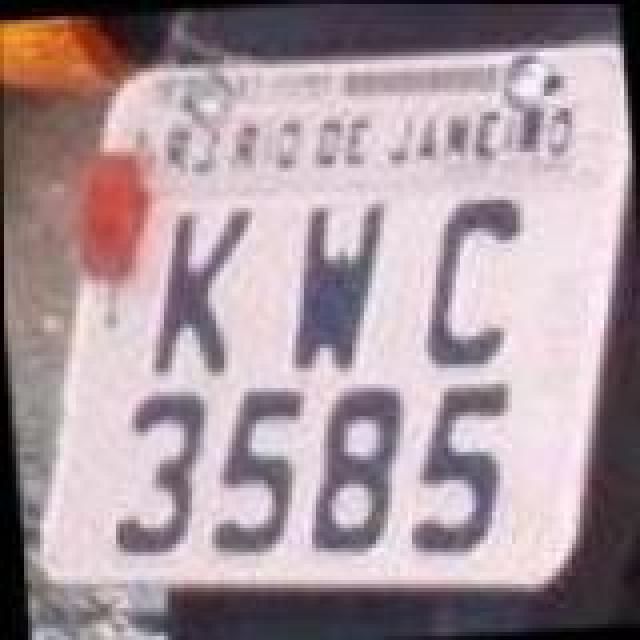3: (98, 384, 222, 556)
5: (390, 372, 522, 556), (194, 384, 318, 560)
8: (290, 380, 414, 552)
C: (408, 190, 536, 370)
K: (136, 202, 272, 382)
W: (276, 190, 404, 374)
